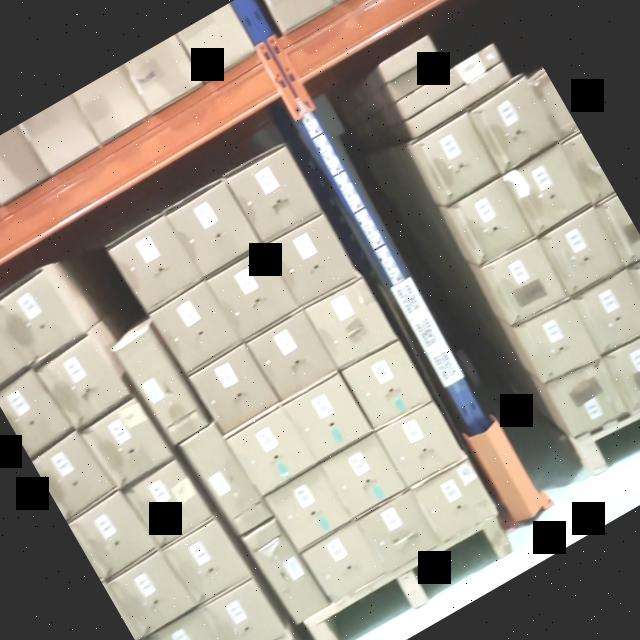box: (116, 330, 206, 444), (226, 144, 322, 244), (186, 426, 269, 534), (166, 181, 260, 275), (244, 520, 328, 624), (110, 215, 200, 308), (306, 277, 396, 368), (152, 281, 241, 373), (209, 249, 298, 339), (190, 346, 280, 435), (248, 311, 337, 400), (67, 492, 155, 582), (411, 116, 498, 205), (344, 340, 431, 427), (229, 406, 315, 494), (110, 548, 194, 638), (270, 217, 356, 304), (448, 179, 534, 265), (378, 401, 464, 487), (40, 338, 126, 424), (0, 270, 79, 363), (31, 432, 114, 520), (539, 210, 623, 296), (505, 148, 589, 233), (286, 374, 371, 458), (88, 401, 170, 488), (321, 432, 405, 515), (484, 241, 566, 326), (470, 88, 552, 173), (356, 491, 439, 574), (414, 460, 498, 542), (266, 466, 350, 548), (167, 520, 248, 604), (130, 463, 212, 545), (548, 359, 628, 442), (304, 522, 383, 601), (518, 304, 598, 381), (0, 368, 68, 457), (572, 270, 640, 353), (202, 579, 285, 640), (561, 132, 614, 201), (595, 194, 640, 265), (604, 328, 640, 411), (531, 75, 578, 136), (378, 36, 438, 80), (445, 43, 503, 88), (406, 92, 464, 136), (151, 609, 230, 640), (398, 76, 454, 118), (102, 580, 141, 640), (389, 59, 444, 100), (0, 304, 24, 389), (458, 65, 509, 102), (628, 256, 640, 322)
